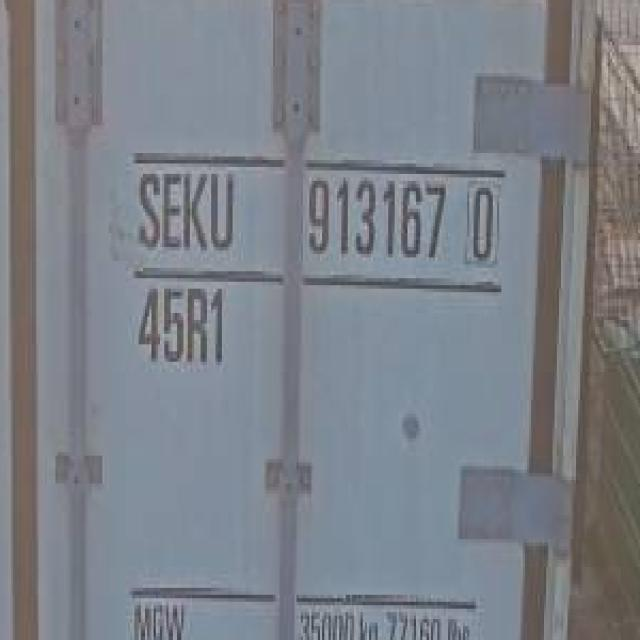dv: (460, 174, 508, 273)
owner: (130, 162, 241, 257)
serial: (303, 170, 448, 270)
size: (134, 275, 231, 373)
